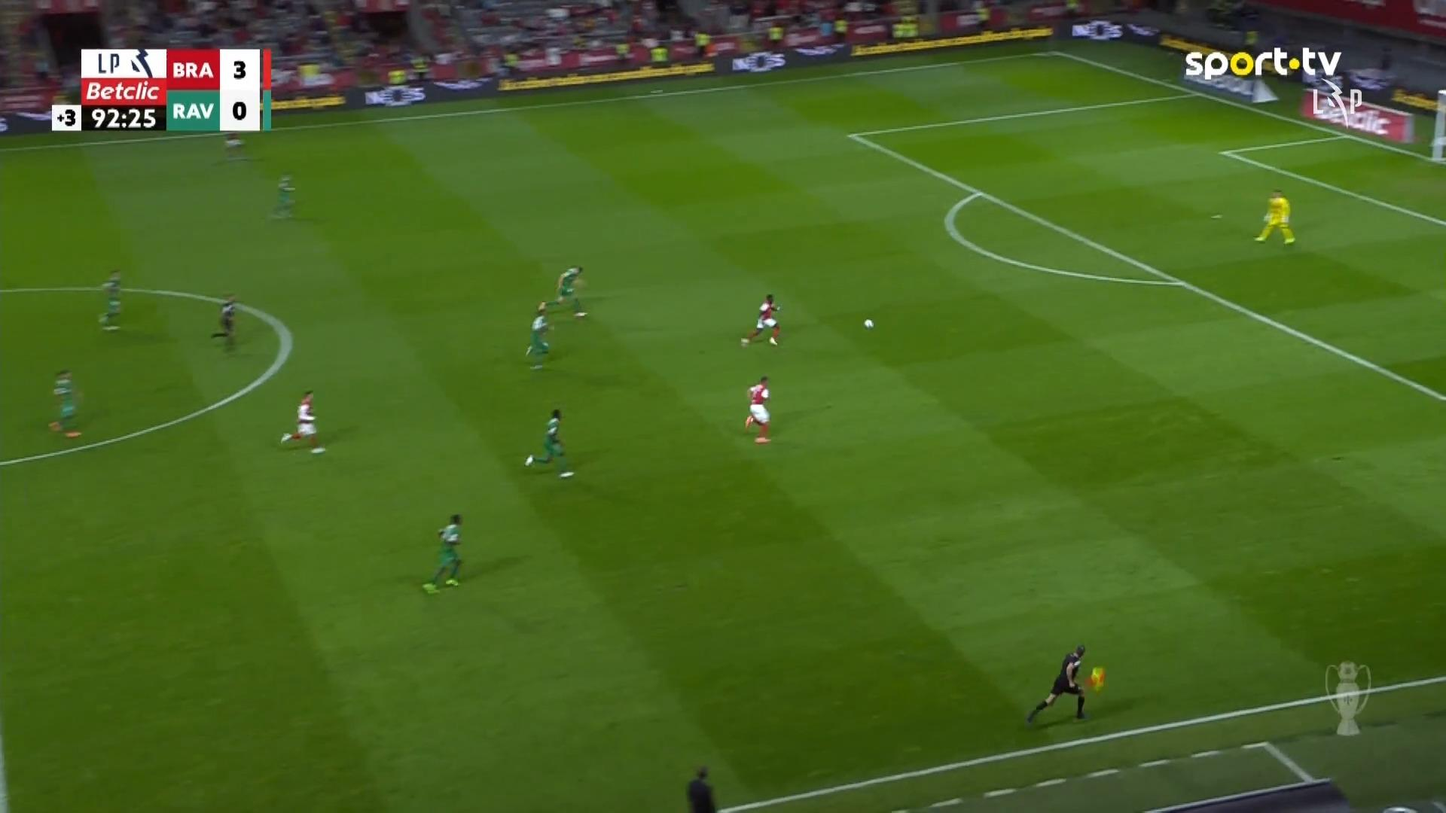ball: (863, 318, 873, 328)
goalkeeper: (1253, 188, 1295, 245)
player: (523, 407, 575, 478), (421, 513, 464, 595), (279, 390, 325, 454), (47, 368, 81, 438), (740, 292, 781, 347), (743, 375, 771, 443), (554, 265, 587, 317), (97, 268, 123, 330), (523, 301, 551, 358), (272, 172, 295, 218), (222, 131, 246, 160)
referee: (1025, 644, 1108, 725), (212, 293, 239, 347), (686, 764, 717, 811)
